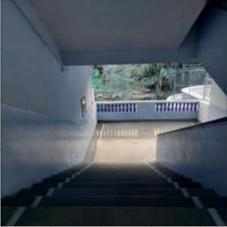Stair Down: (0, 160, 227, 214)
